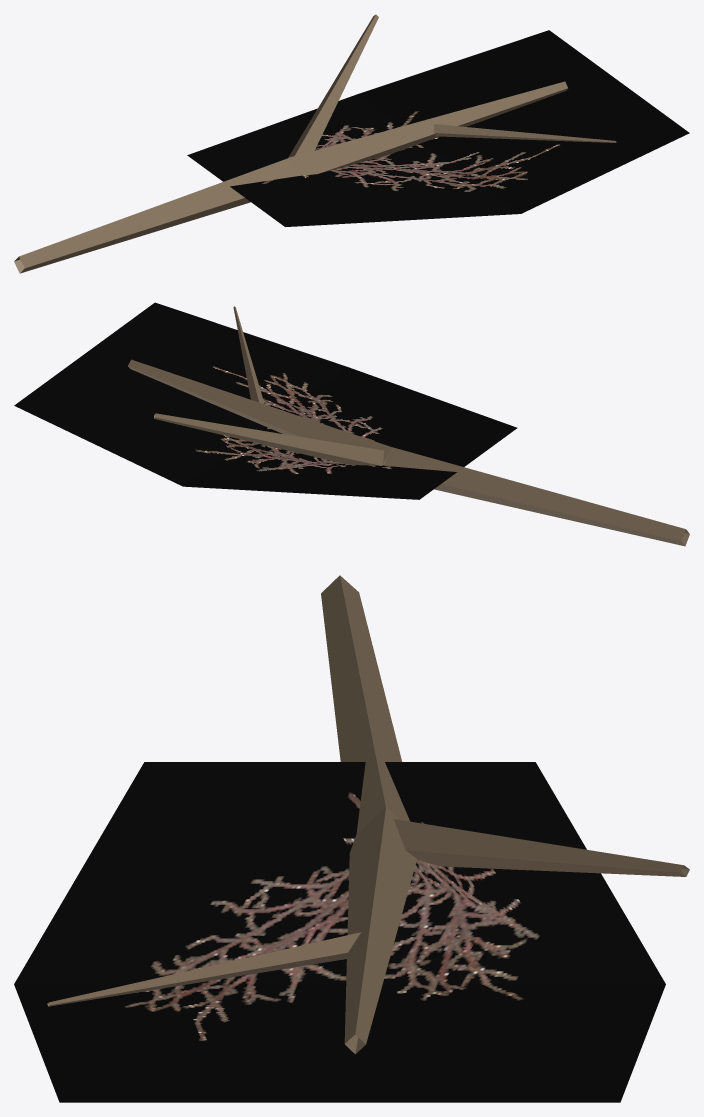
File: Branch_02_Fallen_Limb.fbx
3 views of the same model, one above another, from view 1: azimuth 30°, elevation 25°; view 2: azimuth 150°, elevation 25°; view 3: azimuth 270°, elevation 25° (orthographic). The views are drawn at different scales.
Visible parts, largest first — view 1: Branch_02_Fallen_Limb.001; view 2: Branch_02_Fallen_Limb.001; view 3: Branch_02_Fallen_Limb.001.
Boxes of the visible parts, left/top/right/bottom form: Branch_02_Fallen_Limb.001: left=14, top=14, right=689, bottom=273; Branch_02_Fallen_Limb.001: left=14, top=302, right=689, bottom=546; Branch_02_Fallen_Limb.001: left=14, top=575, right=689, bottom=1102.
Size of the model in its own units: 180 by 25.27 by 88.12.
